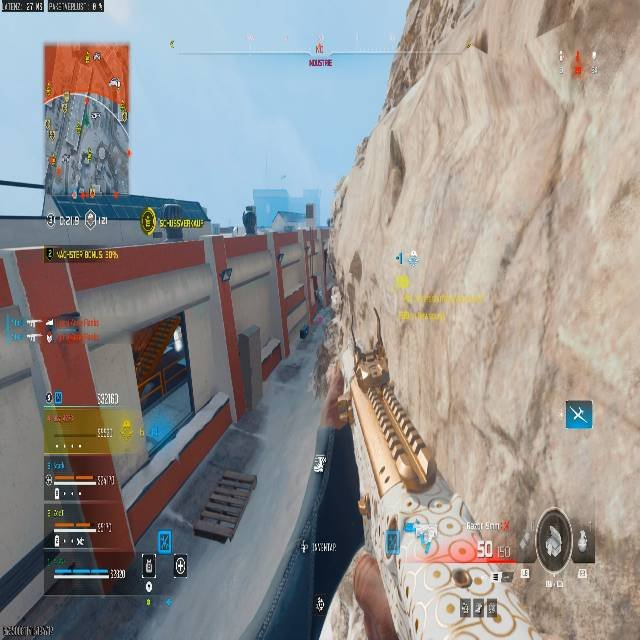player: (241, 203, 257, 233)
